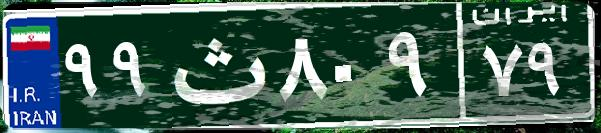0: (330, 28, 385, 110)
7: (475, 38, 525, 113)
8: (273, 28, 330, 110)
9: (385, 28, 445, 110), (57, 26, 110, 107), (110, 28, 158, 105), (525, 38, 570, 115)
ث: (158, 15, 273, 115)
